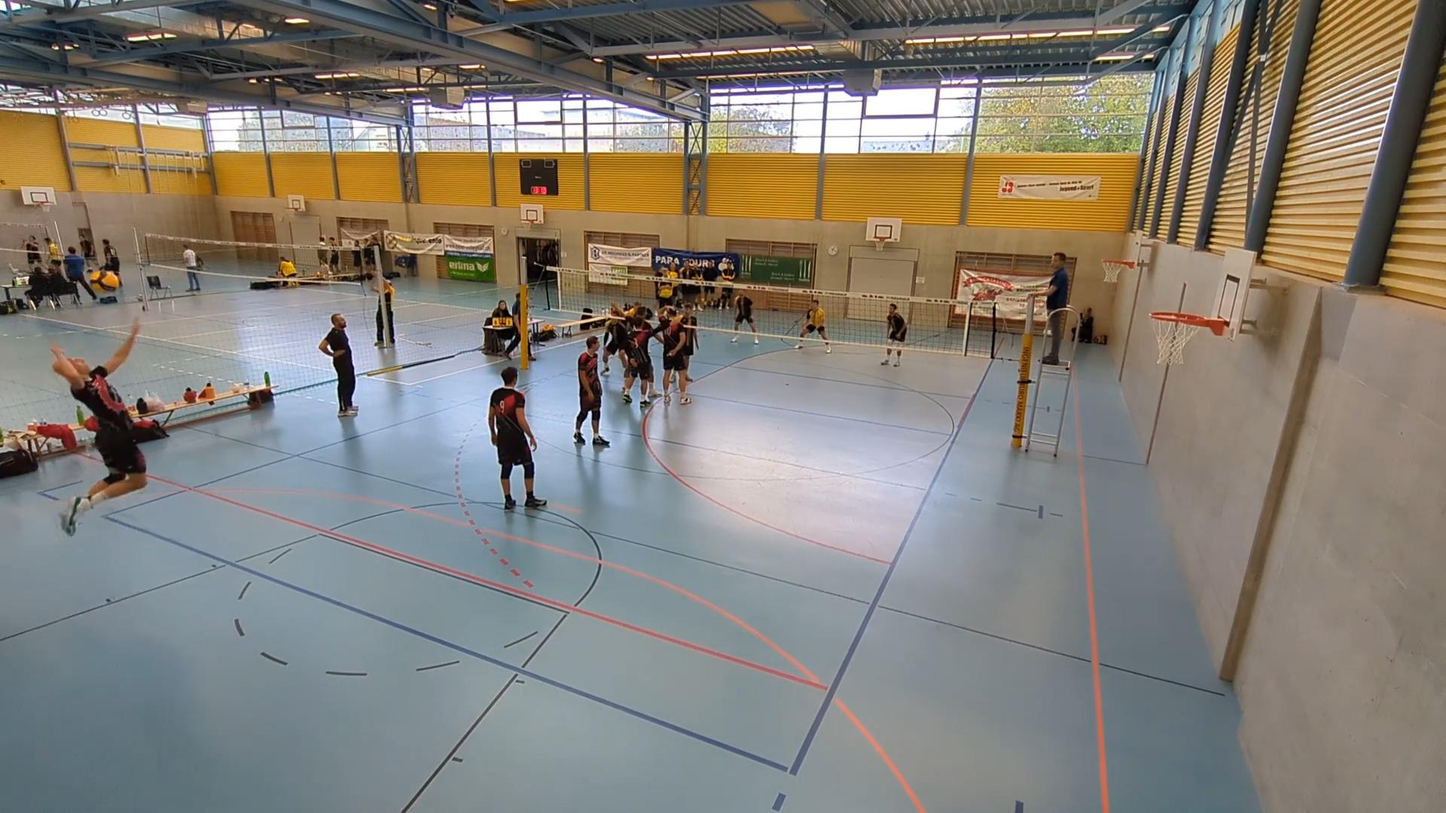battuta: (43, 320, 175, 537)
